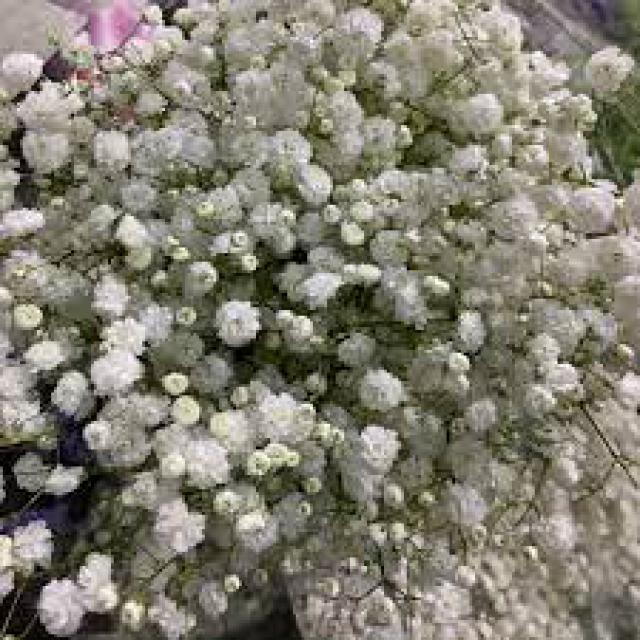gypsophila: (461, 110, 603, 336), (256, 126, 430, 289), (84, 333, 142, 399), (208, 293, 259, 355), (26, 325, 65, 385)
